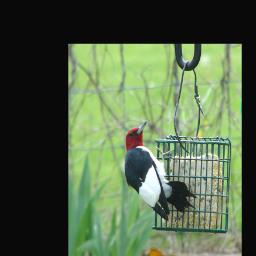Woodpecker: (125, 121, 197, 221)
